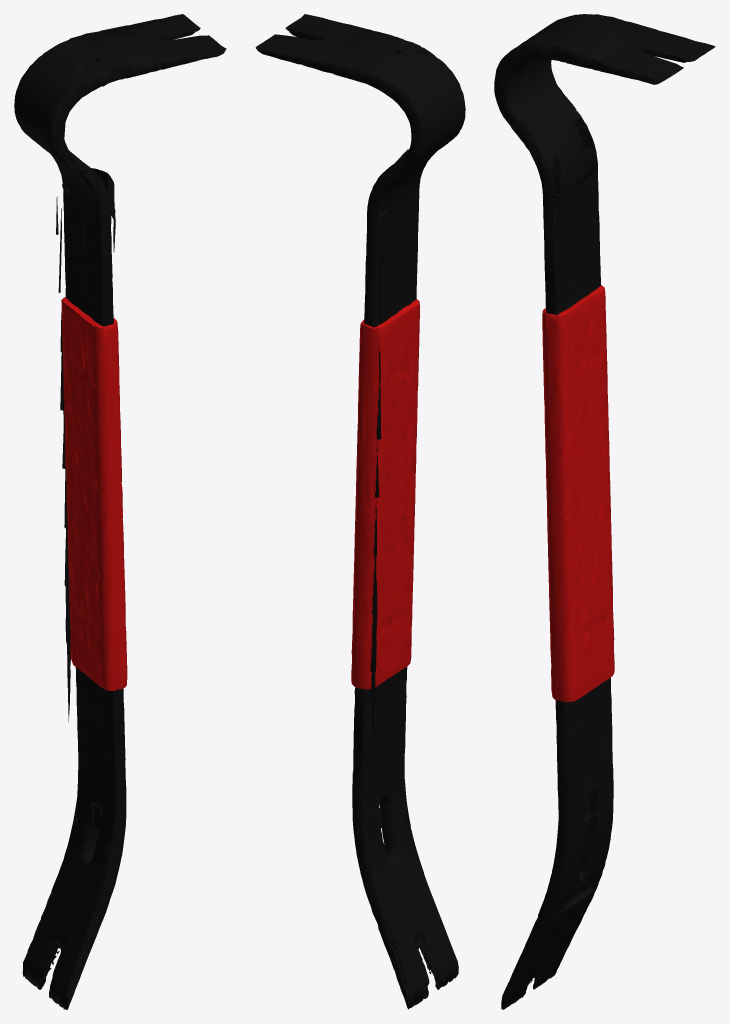
File: pry_bar_15in.dae
3 views of the same model, side by side, from view 1: azimuth 30°, elevation 25°; view 2: azimuth 150°, elevation 25°; view 3: azimuth 330°, elevation 25° (orthographic). The views are drawn at different scales.
Visible parts, largest first — view 1: node_g0_black, node_g1_red; view 2: node_g0_black, node_g1_red; view 3: node_g0_black, node_g1_red.
Part boxes in pixels (x1,y1,x2,y2): node_g0_black: (14, 14, 226, 1009); node_g1_red: (61, 297, 127, 690); node_g0_black: (255, 14, 465, 1009); node_g1_red: (351, 299, 419, 689); node_g0_black: (494, 14, 715, 1009); node_g1_red: (542, 285, 614, 702).
Size of the model in its own units: 0.0739 by 0.0384 by 0.3817.
